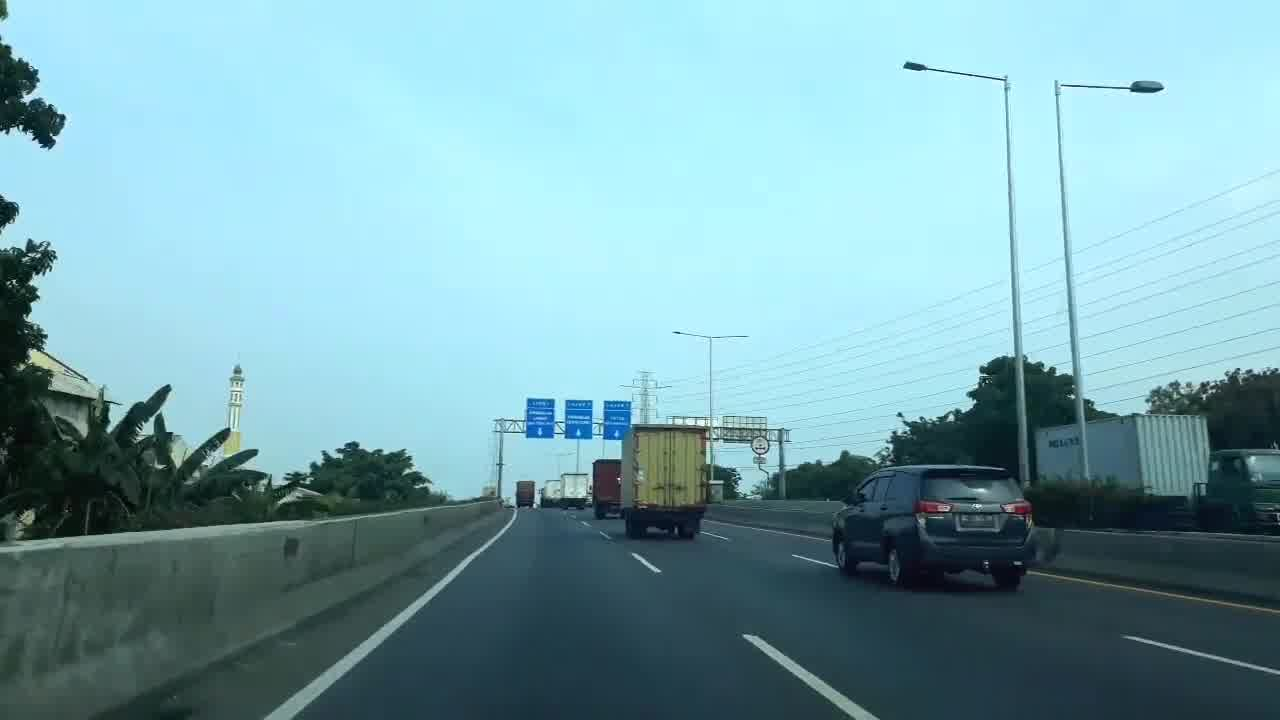plate_positive: (959, 513, 995, 527)
